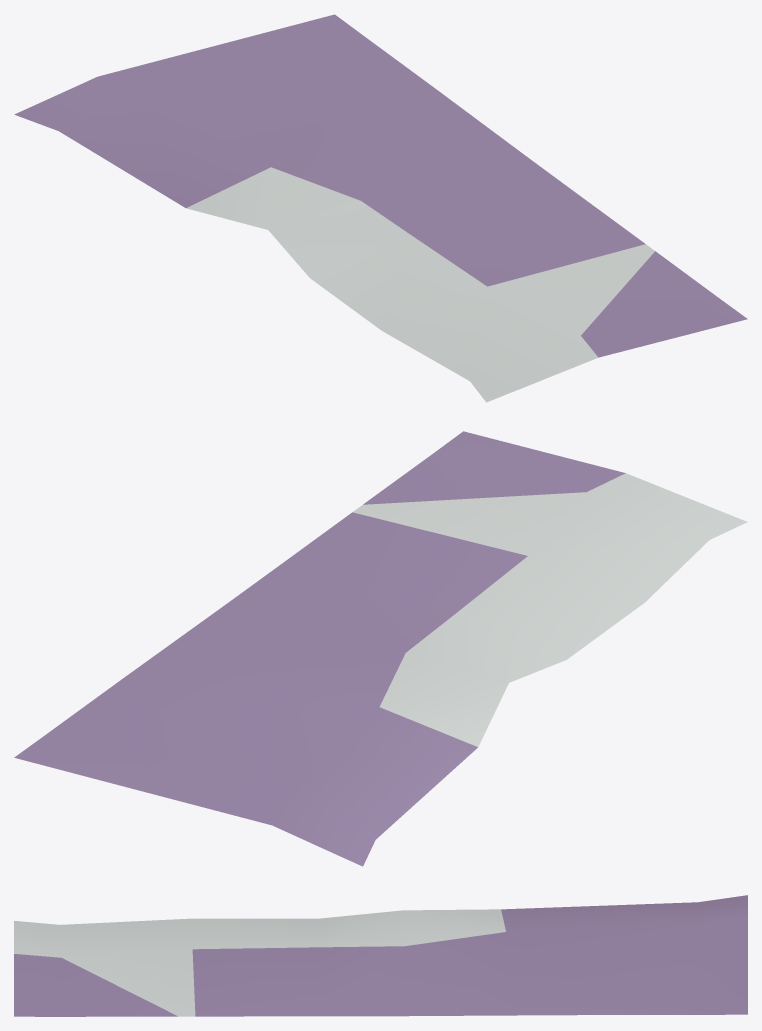
3 renders of one model, top to bottom at view 1: azimuth 30°, elevation 25°; view 2: azimuth 150°, elevation 25°; view 3: azimuth 270°, elevation 25°, orthographic. The views are drawn at different scales.
Parts seen in each view (by area): view 1: G:\FFXIV-MapTools\exports\m5f1\bg\ex4\02_mid_m5\fld\m5f1\bgp (×2); view 2: G:\FFXIV-MapTools\exports\m5f1\bg\ex4\02_mid_m5\fld\m5f1\bgp (×2); view 3: G:\FFXIV-MapTools\exports\m5f1\bg\ex4\02_mid_m5\fld\m5f1\bgp (×2).
Boxes of the visible parts, <box> form: G:\FFXIV-MapTools\exports\m5f1\bg\ex4\02_mid_m5\fld\m5f1\bgp (×2): <box>14,14,747,402</box>; G:\FFXIV-MapTools\exports\m5f1\bg\ex4\02_mid_m5\fld\m5f1\bgp (×2): <box>14,431,747,866</box>; G:\FFXIV-MapTools\exports\m5f1\bg\ex4\02_mid_m5\fld\m5f1\bgp (×2): <box>14,895,747,1016</box>.
Size of the model in its own units: 57.39 by 3.74 by 128.
